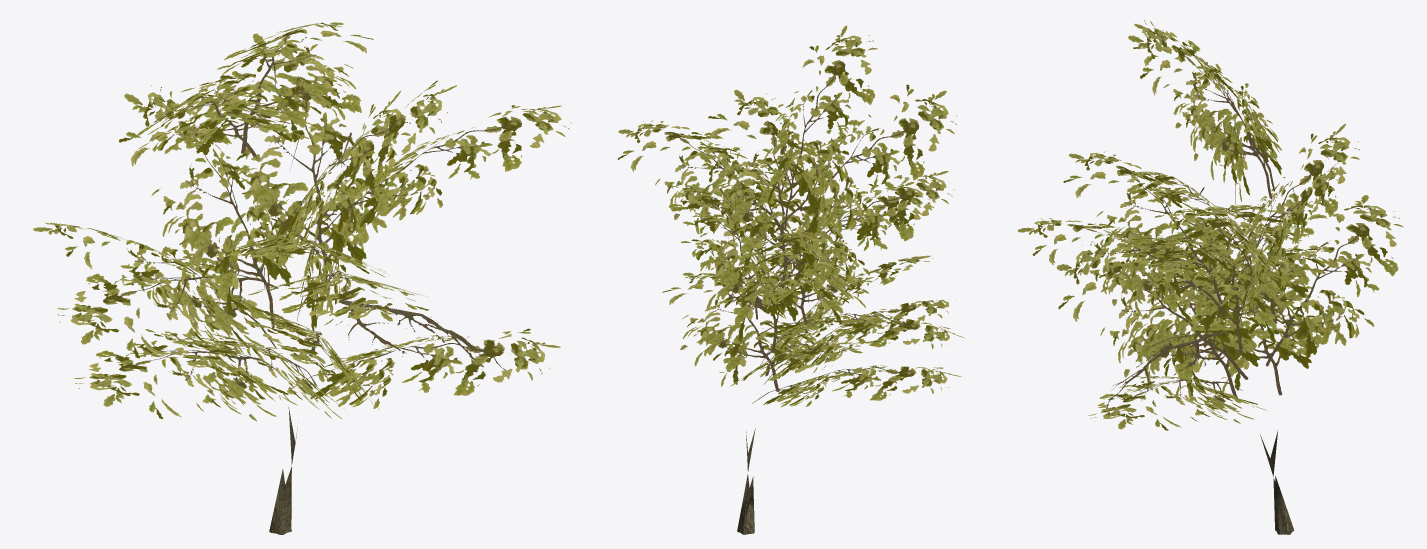
The picture shows the model from 3 angles, left to right: view 1: azimuth 30°, elevation 25°; view 2: azimuth 150°, elevation 25°; view 3: azimuth 270°, elevation 25°; orthographic projection. The views are drawn at different scales.
Visible parts, largest first — view 1: Treesmall; view 2: Treesmall; view 3: Treesmall.
Part boxes in pixels (<box>): Treesmall: <box>33,22,571,534</box>; Treesmall: <box>617,25,964,534</box>; Treesmall: <box>1017,20,1403,534</box>.
Bounding box in the file's own units: 6.21 × 7.16 × 5.38.
1 material, 1 textured.
